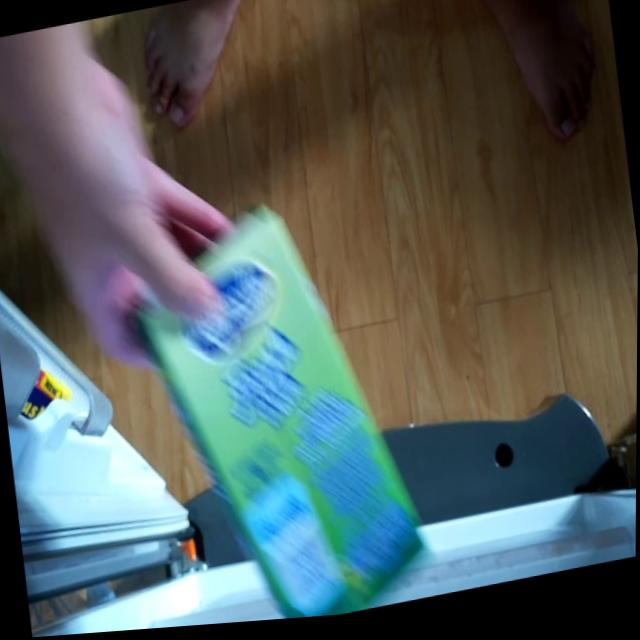milk: (120, 184, 445, 633)
